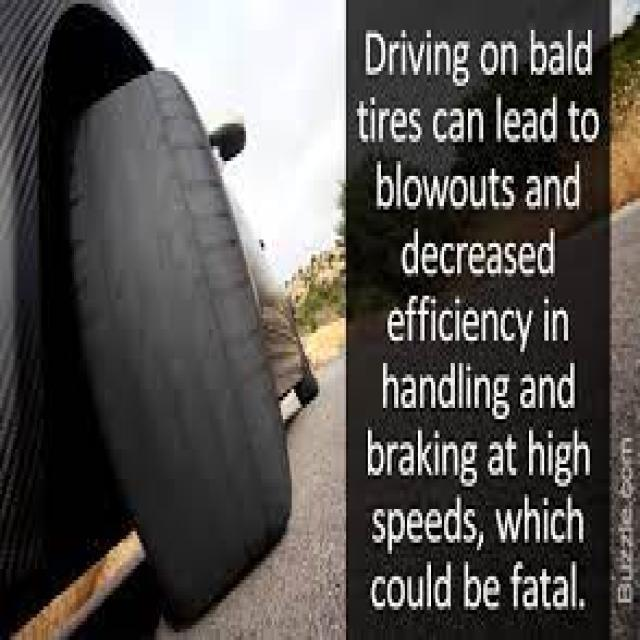Flat spots: (124, 101, 194, 492)
